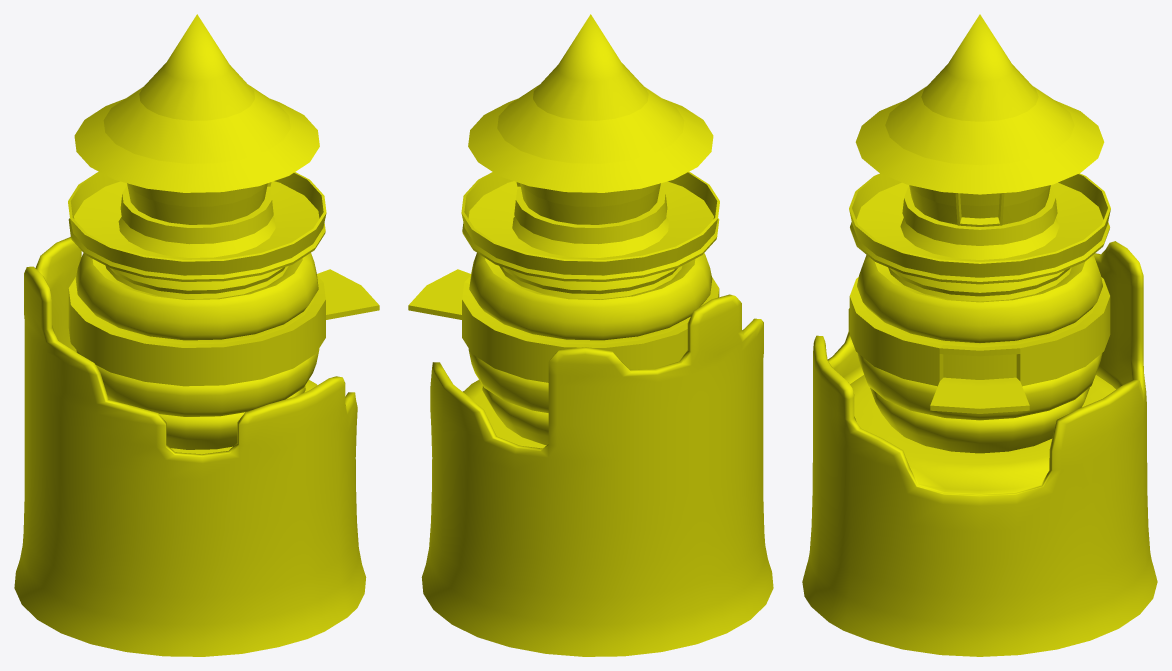
File: QueenBee 1.fbx
3 views of the same model, side by side, from view 1: azimuth 30°, elevation 25°; view 2: azimuth 150°, elevation 25°; view 3: azimuth 270°, elevation 25° (orthographic).
Visible parts, largest first — view 1: hive_low; view 2: hive_low; view 3: hive_low.
Boxes of the visible parts, x1,y1,x2,y2 form: hive_low: (14, 14, 379, 656); hive_low: (408, 14, 773, 656); hive_low: (802, 14, 1157, 656).
Size of the model in its own units: 4.4 by 7.35 by 4.15.
